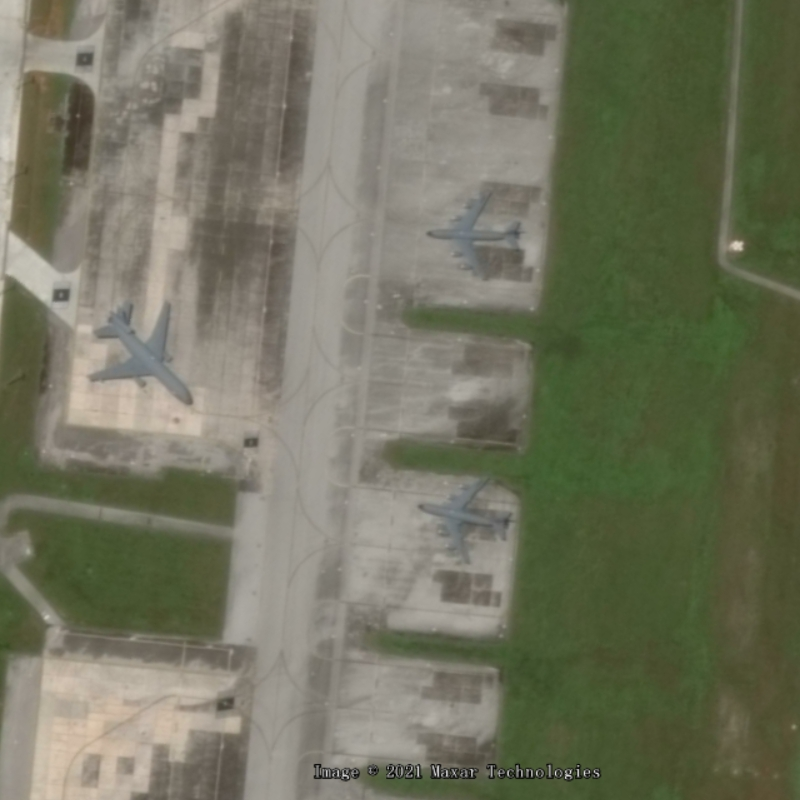A14: (421, 185, 525, 280), (416, 471, 517, 566)
A18: (83, 296, 199, 410)
